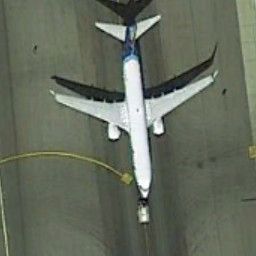Airplane: (38, 8, 221, 204)
